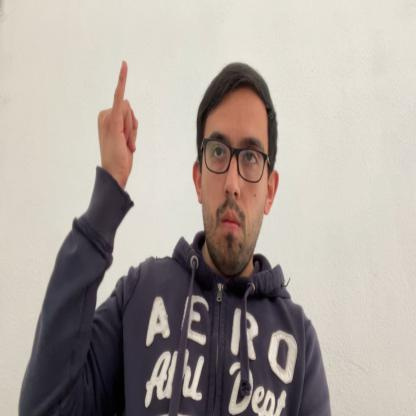I: (97, 57, 139, 186)
